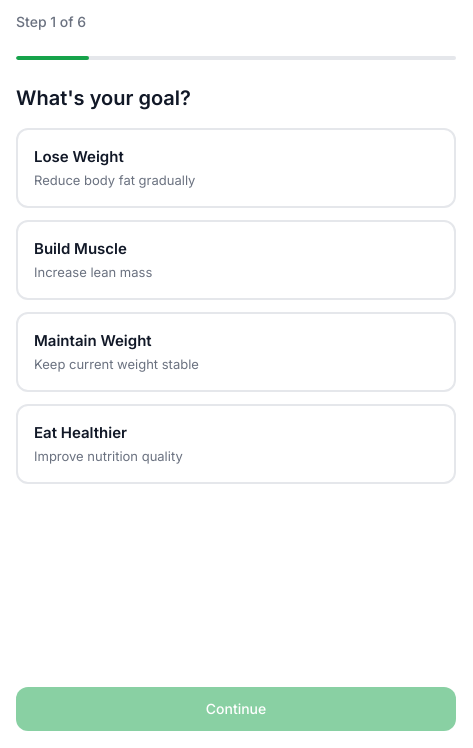
Scenario: OnboardingWizard — step navigation › can go back from step 2 to step 1
Step 1. Click the text "Lose Weight" → (79, 156), box [34,147,124,166]
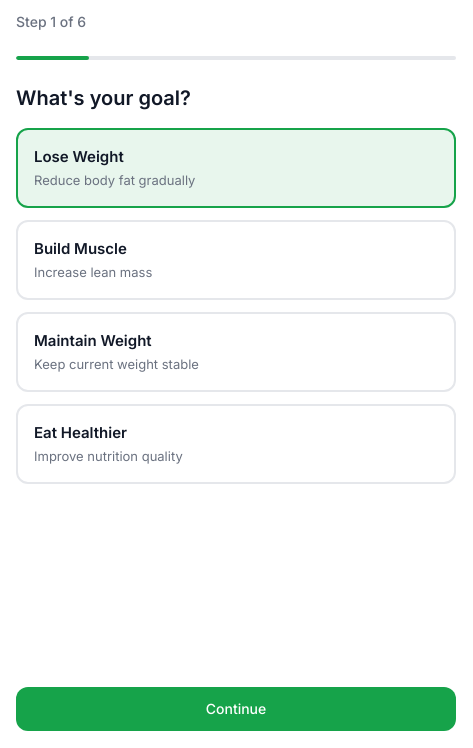
Step 2. Click the button "Continue" → (236, 709), box [16,687,456,731]
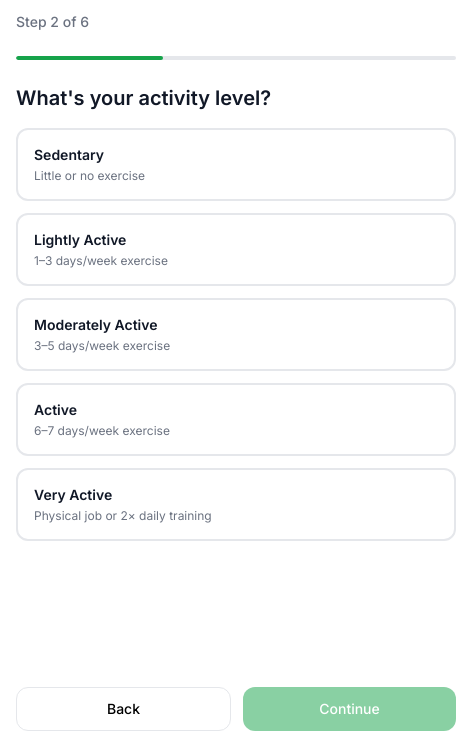
Expected: the button "Back" is shown
Step 3. Click the button "Back" → (124, 709), box [16,687,231,731]
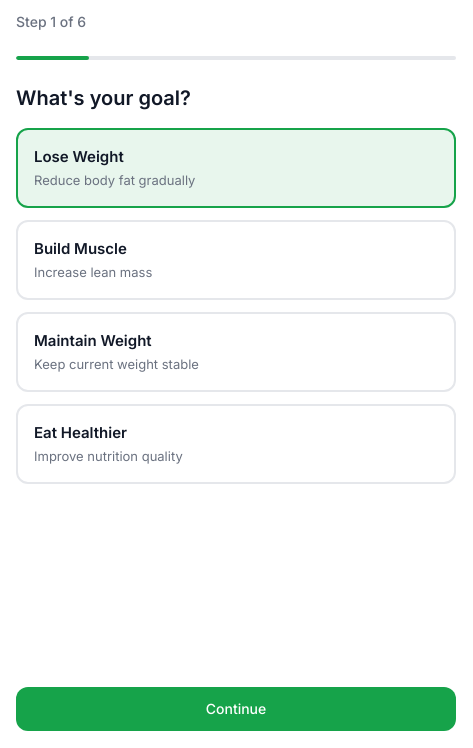
Expected: the heading "What's your goal?" is shown, [16,86,191,110]
